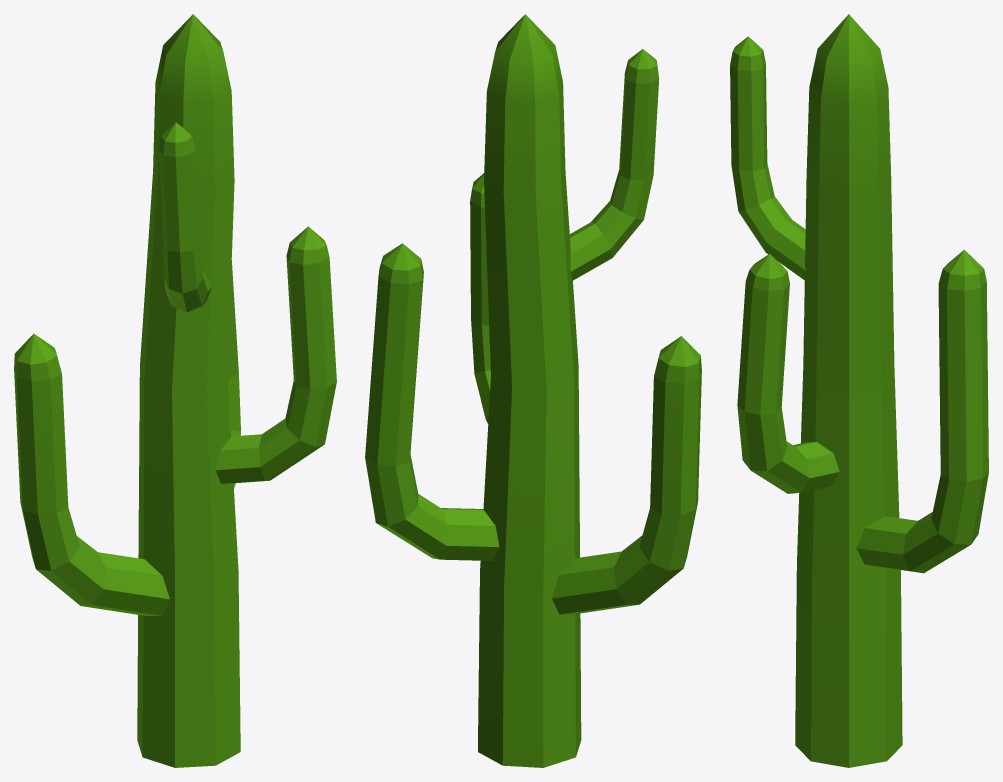
The model's file is Cactus_Green_2.fbx.
3 renders of one model, left to right at view 1: azimuth 30°, elevation 25°; view 2: azimuth 150°, elevation 25°; view 3: azimuth 270°, elevation 25°, orthographic.
Parts seen in each view (by area): view 1: Cactus; view 2: Cactus; view 3: Cactus.
Part boxes in pixels (bbox=[...]): Cactus: bbox=[14, 14, 336, 767]; Cactus: bbox=[365, 14, 701, 767]; Cactus: bbox=[730, 14, 988, 767].
Size of the model in its own units: 153 by 386 by 124.
